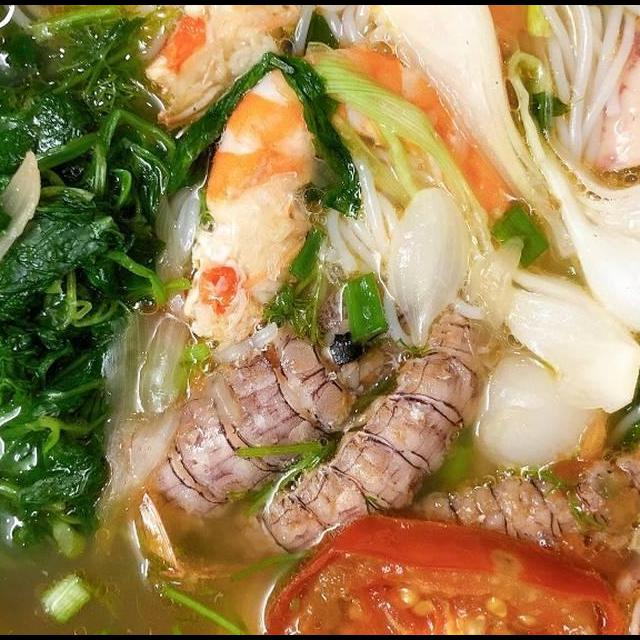bun: (304, 144, 491, 357), (527, 6, 640, 174)
bun hai san: (0, 52, 640, 634)
muc: (580, 9, 640, 183)
tom: (179, 39, 525, 357)
tom tit: (127, 273, 421, 548), (215, 296, 502, 565), (366, 395, 640, 575)
